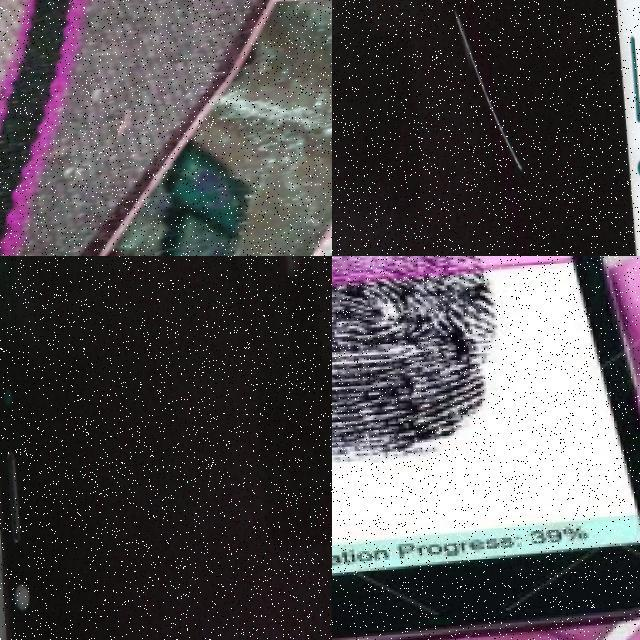scratch: (449, 11, 516, 184)
screen crack: (40, 0, 332, 256)
